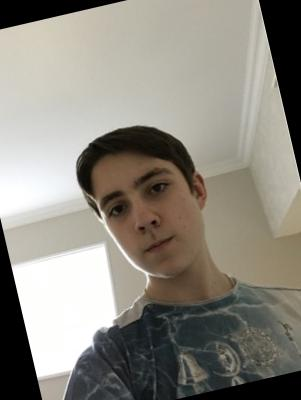without_mask: (91, 161, 214, 292)
